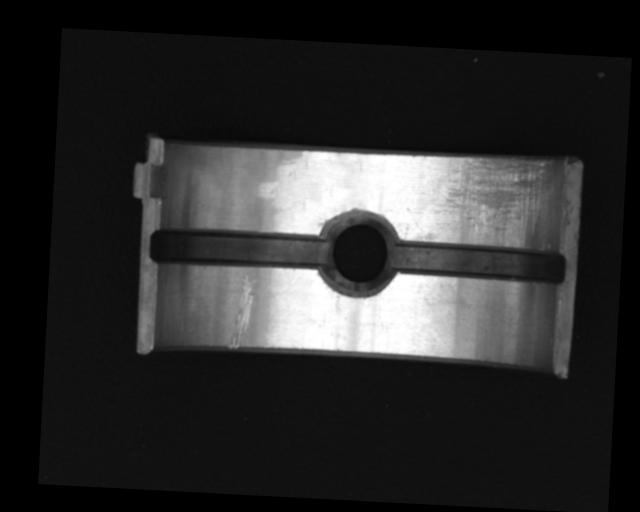gap: (148, 224, 328, 276), (394, 239, 568, 286)
hole: (316, 209, 400, 296)
nick: (227, 273, 258, 350)
scratch: (431, 151, 557, 248)
